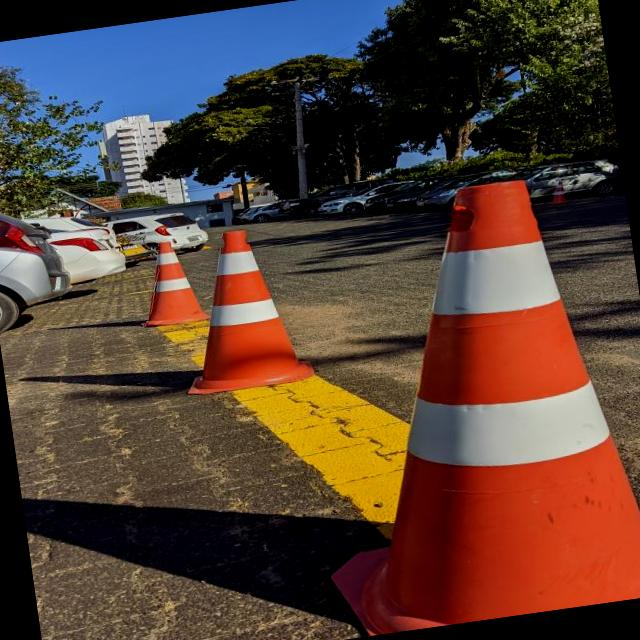Cone: (272, 161, 640, 640), (159, 218, 322, 400), (125, 231, 218, 331), (546, 180, 572, 207)
